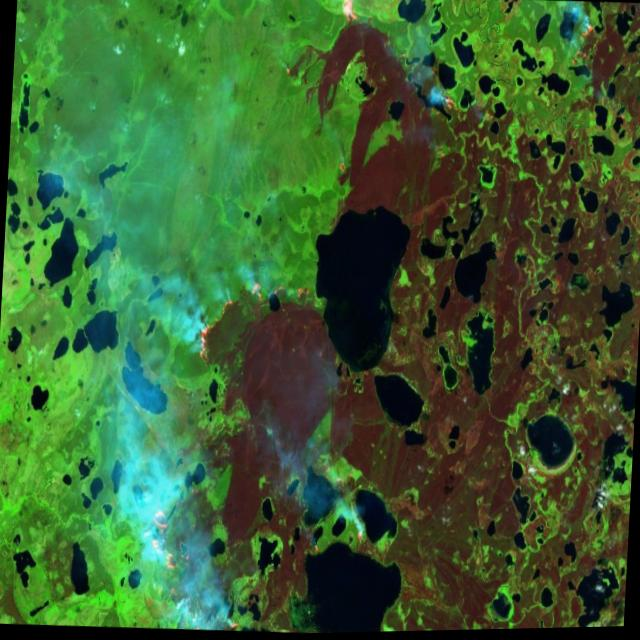fire: (140, 493, 252, 634), (186, 264, 313, 377), (310, 438, 378, 559), (416, 59, 481, 133), (558, 2, 609, 73), (326, 0, 374, 43)
